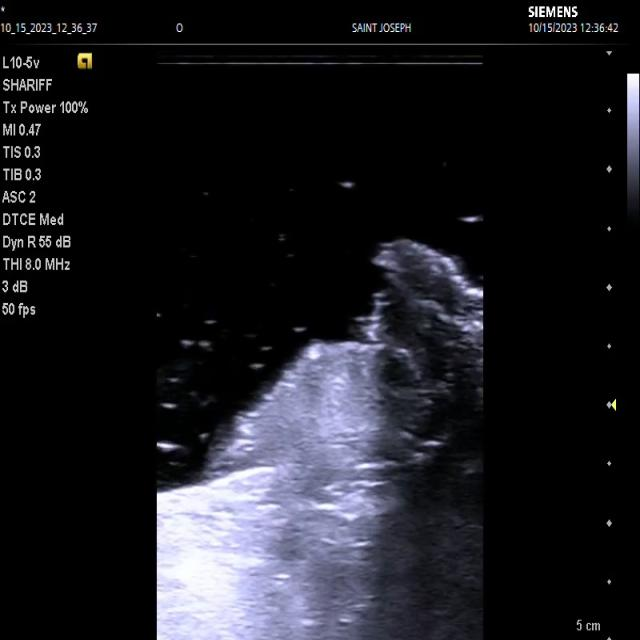tissue: (158, 237, 486, 640)
